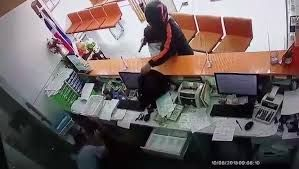gun: (135, 34, 153, 59)
